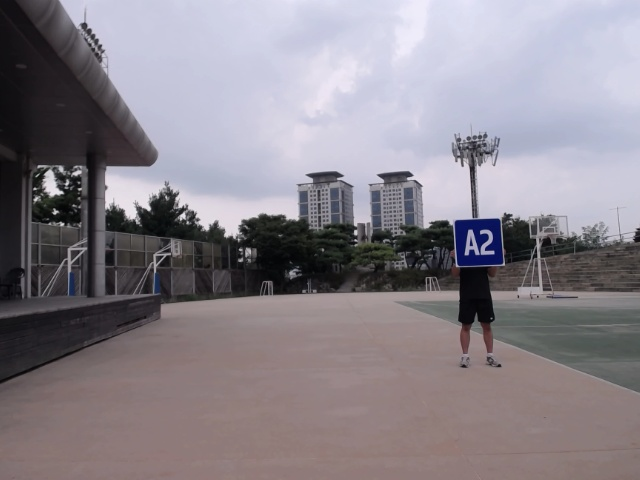delivery_a2: (454, 218, 504, 267)
